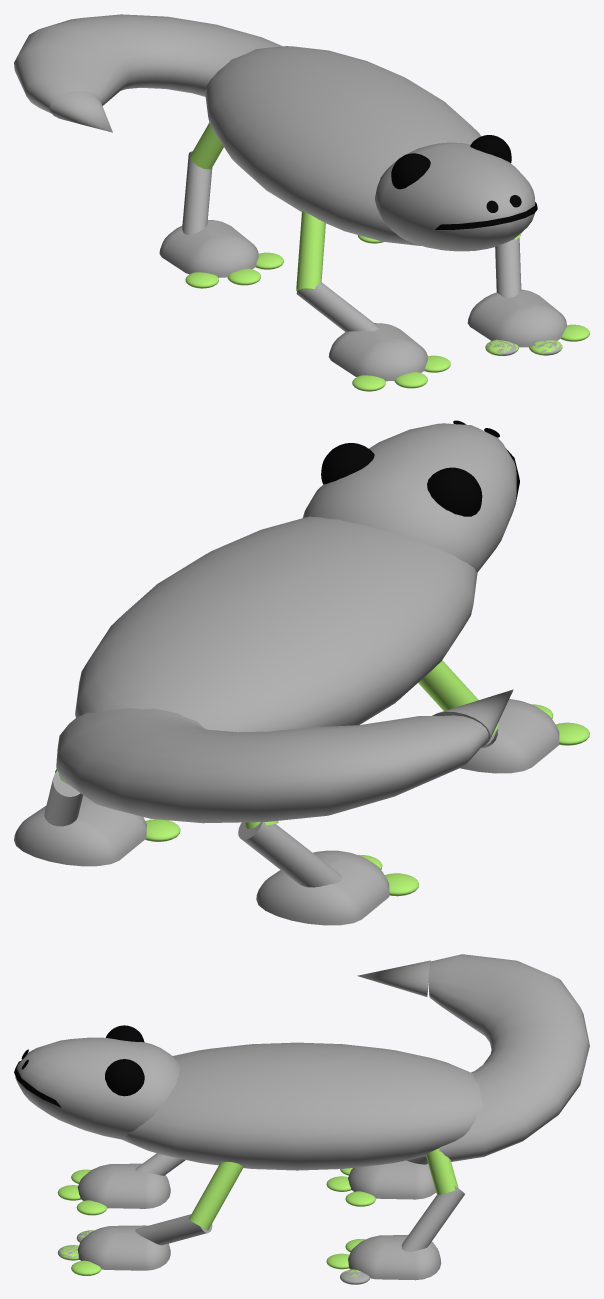
The model's file is Lizard.fbx.
3 renders of one model, top to bottom at view 1: azimuth 30°, elevation 25°; view 2: azimuth 150°, elevation 25°; view 3: azimuth 270°, elevation 25°, orthographic. The views are drawn at different scales.
Parts seen in each view (by area): view 1: pSphere1, pTorus1, pSphere2, pSphere3, pasted__pCylinder1 (×2), pasted__pSphere3, pCylinder1, pasted__pasted__pCylinder1, pSphere4, pCone1, pasted__pSphere5 (×2), pasted__pasted__pSphere5 (+1 smaller); view 2: pSphere1, pTorus1, pSphere2, pasted__pSphere3, pasted__pasted__pCylinder1, pSphere3, pSphere4, pCylinder1, pCone1; view 3: pSphere1, pTorus1, pSphere2, pSphere3, pasted__pSphere3, pasted__pCylinder1 (×2), pasted__pasted__pCylinder1, pCylinder1, pSphere4, pCone1, pasted__pSphere5 (×2).
Boxes of the visible parts, x1,y1,x2,y2 form: pSphere1: [205, 46, 481, 245]; pTorus1: [14, 14, 282, 113]; pSphere2: [375, 142, 535, 251]; pSphere3: [328, 289, 566, 381]; pasted__pCylinder1 (×2): [190, 123, 521, 331]; pasted__pSphere3: [159, 220, 258, 277]; pCylinder1: [296, 211, 521, 290]; pasted__pasted__pCylinder1: [182, 151, 212, 234]; pSphere4: [391, 135, 511, 189]; pCone1: [49, 91, 112, 132]; pasted__pSphere5 (×2): [352, 324, 589, 391]; pasted__pasted__pSphere5: [424, 339, 518, 372]; pSphere1: [75, 516, 477, 732]; pTorus1: [56, 708, 488, 823]; pSphere2: [303, 423, 516, 572]; pasted__pSphere3: [14, 795, 389, 925]; pasted__pasted__pCylinder1: [44, 770, 342, 887]; pSphere3: [460, 699, 559, 773]; pSphere4: [321, 443, 482, 516]; pCylinder1: [418, 660, 498, 736]; pCone1: [432, 689, 513, 746]; pSphere1: [122, 1042, 484, 1170]; pTorus1: [428, 954, 589, 1161]; pSphere2: [15, 1037, 179, 1139]; pSphere3: [77, 1163, 170, 1270]; pasted__pSphere3: [348, 1160, 441, 1280]; pasted__pCylinder1 (×2): [135, 1148, 458, 1245]; pasted__pasted__pCylinder1: [401, 1156, 464, 1251]; pCylinder1: [188, 1161, 243, 1230]; pSphere4: [105, 1025, 144, 1096]; pCone1: [357, 960, 430, 996]; pasted__pSphere5 (×2): [57, 1169, 101, 1275].
Bounding box in the file's own units: 3.99 × 2.05 × 5.84.
